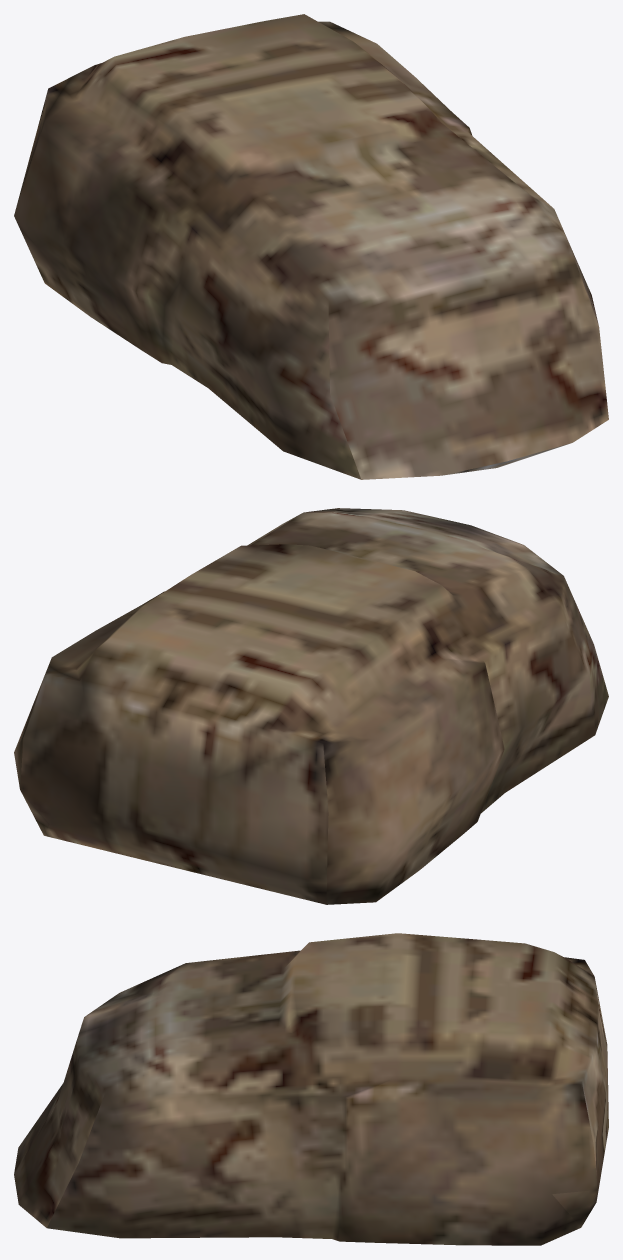
The model's file is Pickup_BackpackC.glb.
3 views of the same model, one above another, from view 1: azimuth 30°, elevation 25°; view 2: azimuth 150°, elevation 25°; view 3: azimuth 270°, elevation 25° (orthographic). The views are drawn at different scales.
Visible parts, largest first — view 1: pk_backpack_c; view 2: pk_backpack_c; view 3: pk_backpack_c.
Boxes of the visible parts, x1,y1,x2,y2 form: pk_backpack_c: [14, 14, 608, 479]; pk_backpack_c: [14, 508, 608, 904]; pk_backpack_c: [14, 933, 608, 1245].
Bounding box in the file's own units: 0.6294 × 0.3597 × 0.9516.
1 material, 1 textured.
